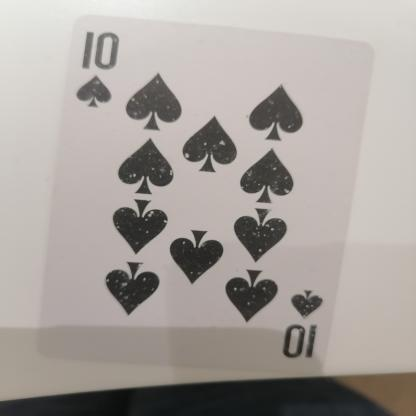10S: (70, 29, 140, 119), (281, 272, 334, 368)
